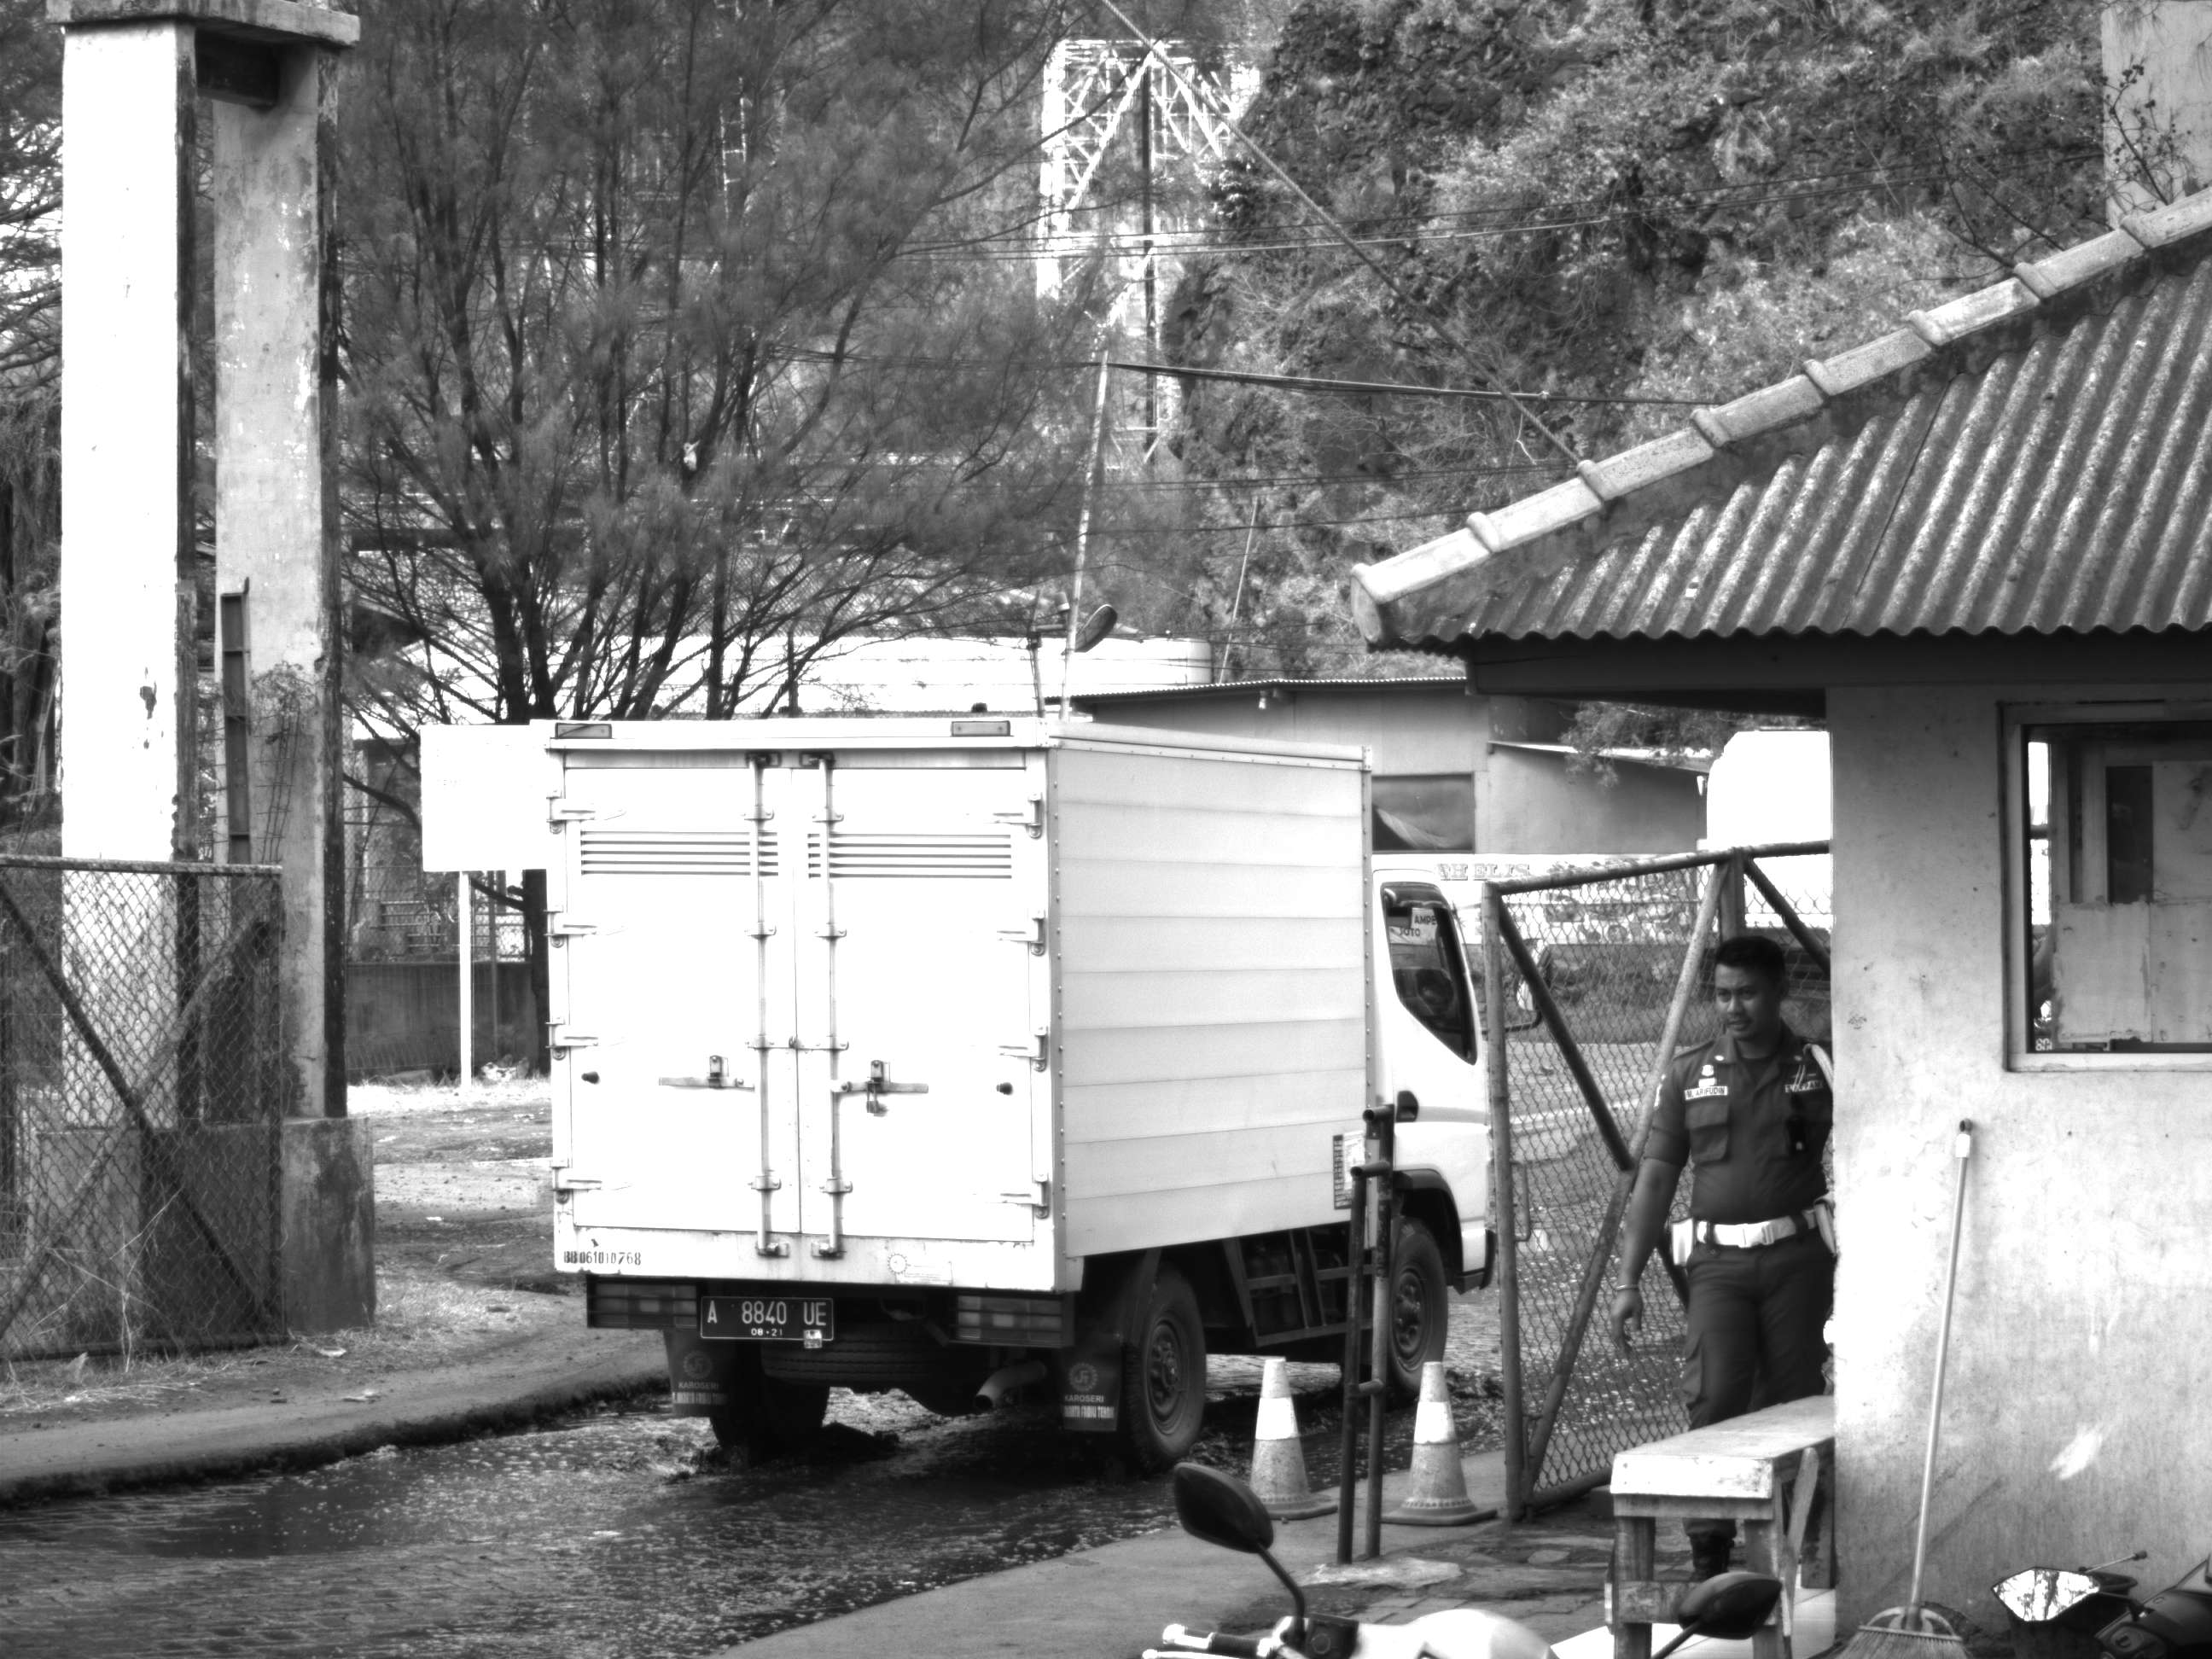day_truck_rear: (527, 697, 1222, 1464)
plate: (696, 1291, 840, 1348)
